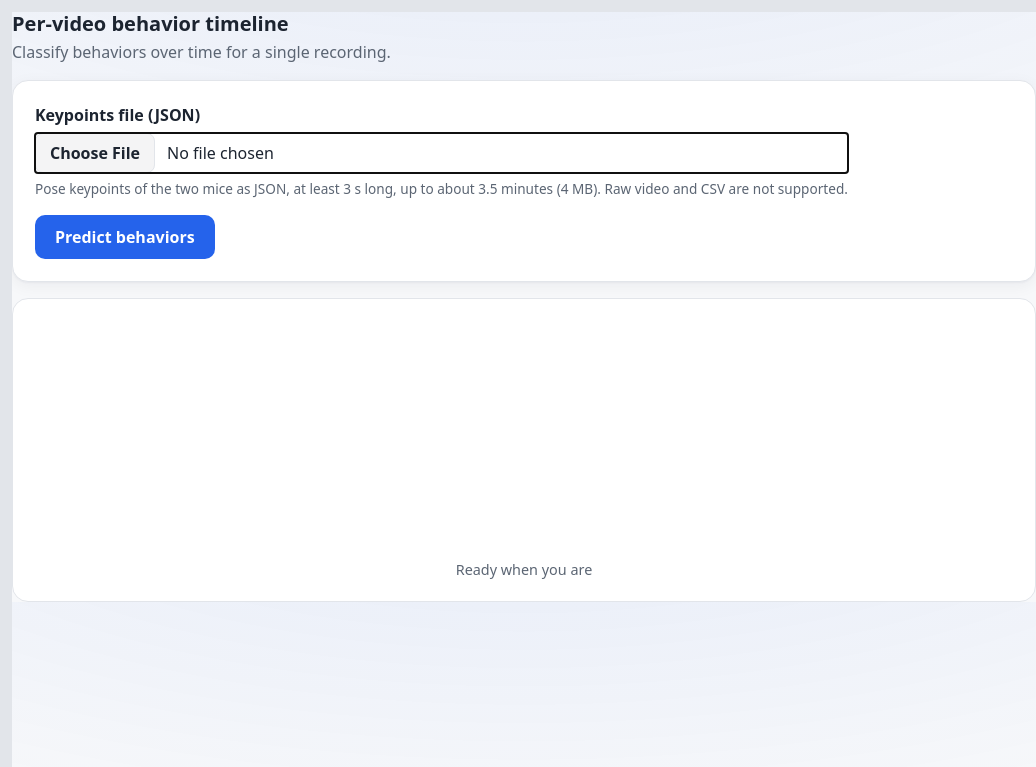
it: TimelineView › shows the backend warnings above the result
Earlier steps of the test are not shown.
Click the button "Predict behaviors" at (125, 237), box [35,215,215,259]
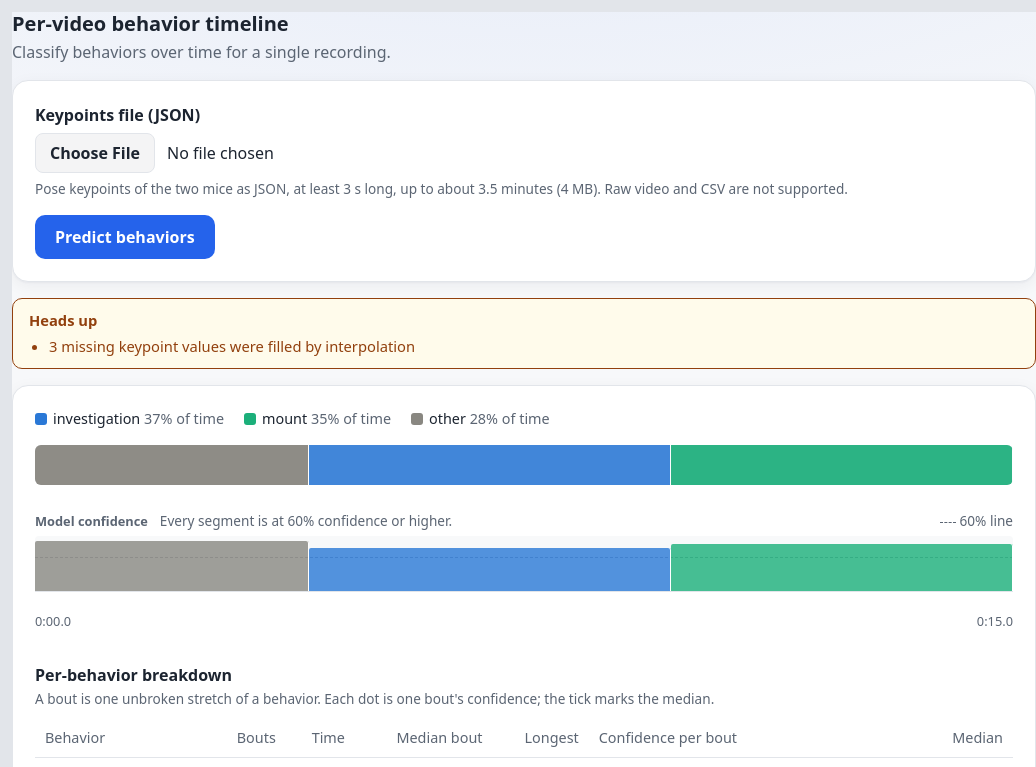
Check: the element named "notes about this recording" shows "filled by interpolation", box [49,336,415,356]
